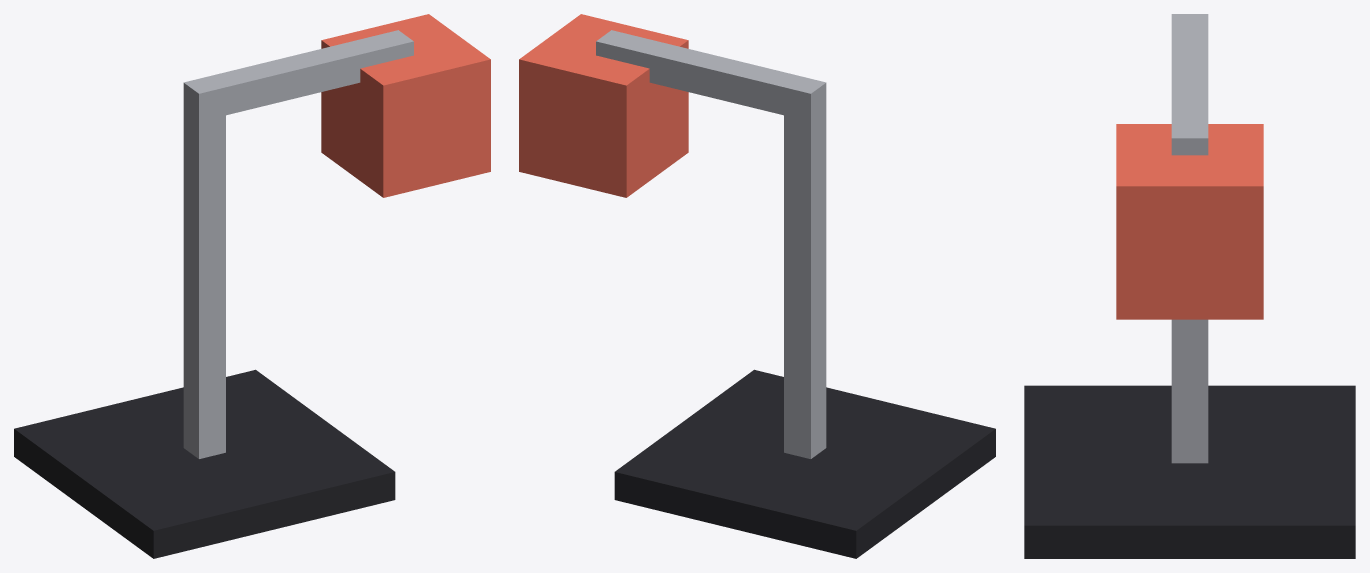
File: lamp.dae
3 views of the same model, side by side, from view 1: azimuth 30°, elevation 25°; view 2: azimuth 150°, elevation 25°; view 3: azimuth 270°, elevation 25° (orthographic). The views are drawn at different scales.
Parts seen in each view (by area): view 1: Base, Shade, Stem, Arm; view 2: Base, Shade, Stem, Arm; view 3: Base, Shade, Stem, Arm.
Boxes of the visible parts, bbox=[...] form: Base: bbox=[14, 369, 395, 558]; Shade: bbox=[321, 14, 490, 197]; Stem: bbox=[183, 97, 225, 458]; Arm: bbox=[183, 30, 413, 120]; Base: bbox=[614, 369, 995, 558]; Shade: bbox=[519, 14, 688, 197]; Stem: bbox=[784, 97, 826, 458]; Arm: bbox=[596, 30, 826, 121]; Base: bbox=[1024, 385, 1355, 558]; Shade: bbox=[1116, 124, 1263, 319]; Stem: bbox=[1171, 319, 1208, 463]; Arm: bbox=[1171, 14, 1208, 155].
Size of the model in its own units: 28 by 18 by 28.
